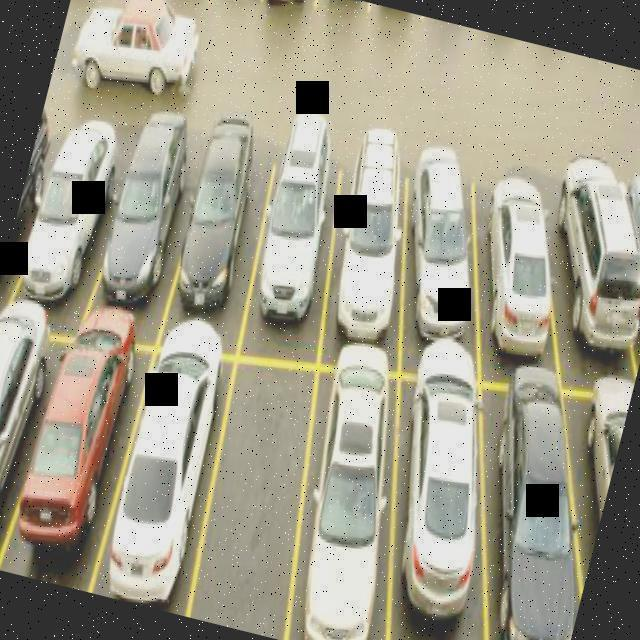space-empty: (166, 340, 357, 640)
space-occupied: (329, 351, 561, 640), (409, 356, 631, 640), (0, 293, 200, 603), (250, 354, 455, 640), (77, 316, 263, 619), (441, 138, 605, 381), (218, 109, 377, 352), (292, 121, 450, 364), (500, 361, 636, 640), (365, 134, 519, 375), (71, 100, 233, 326), (148, 106, 302, 336), (514, 140, 640, 389), (6, 103, 143, 320), (583, 122, 640, 390)
